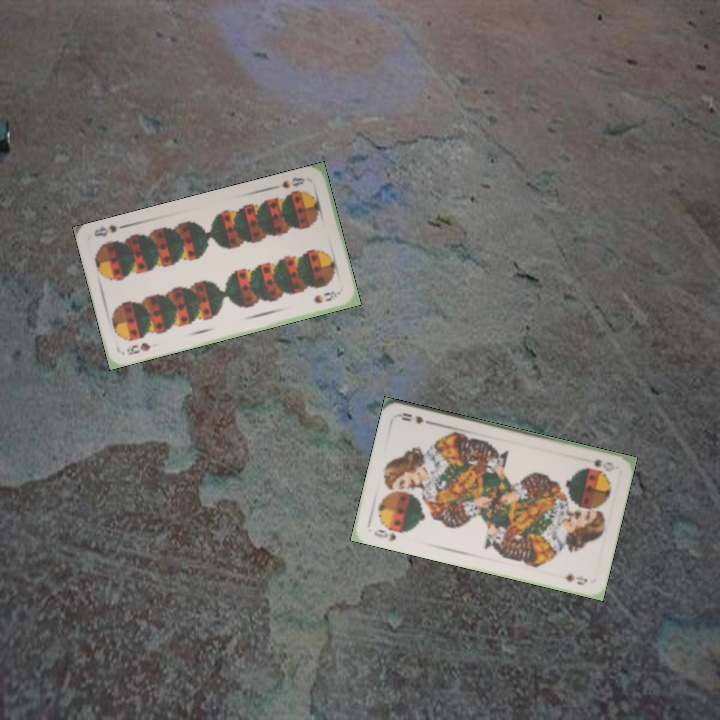S8: (123, 338, 153, 358), (277, 173, 307, 191)
SO: (370, 525, 405, 544), (589, 455, 617, 474)
